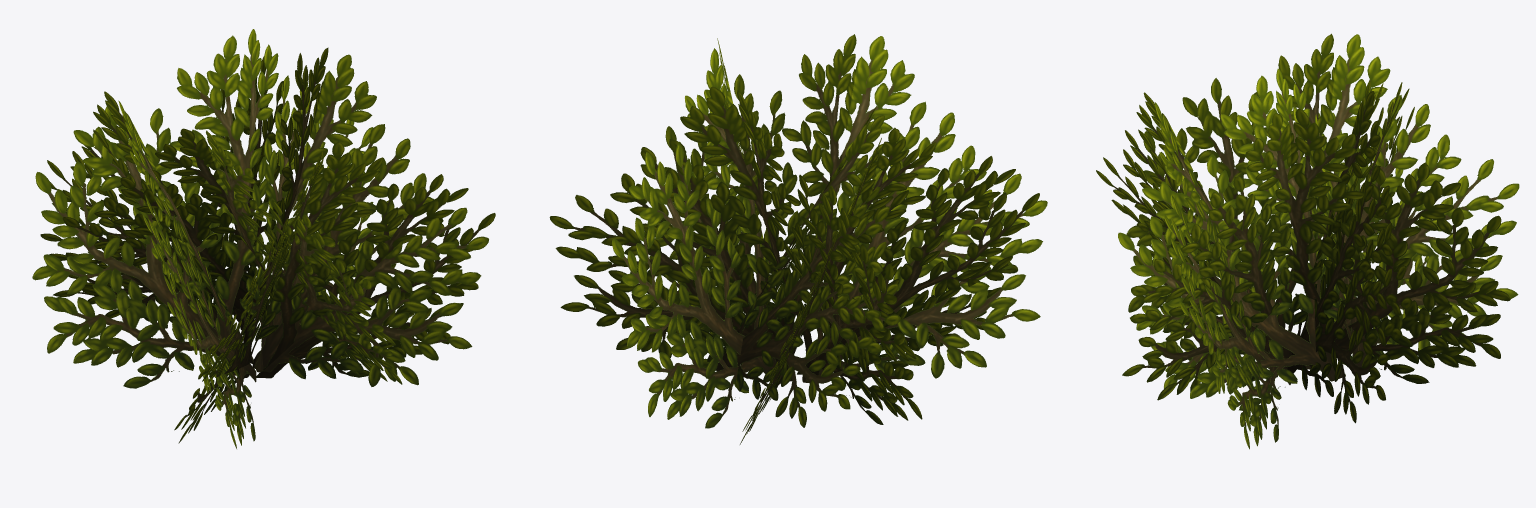
Rendered from largebush1.fbx.
3 renders of one model, left to right at view 1: azimuth 30°, elevation 25°; view 2: azimuth 150°, elevation 25°; view 3: azimuth 270°, elevation 25°, orthographic. The views are drawn at different scales.
Parts seen in each view (by area): view 1: Bush01; view 2: Bush01; view 3: Bush01.
Part boxes in pixels (left/top/right/bottom): Bush01: left=32, top=29, right=495, bottom=448; Bush01: left=549, top=34, right=1047, bottom=444; Bush01: left=1096, top=33, right=1519, bottom=449.
Bounding box in the file's own units: 4.71 × 4.34 × 4.76.
